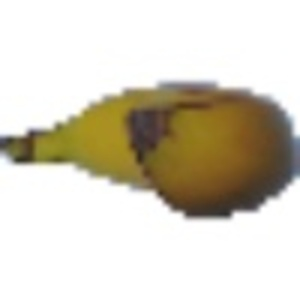banana: (1, 70, 299, 226)
